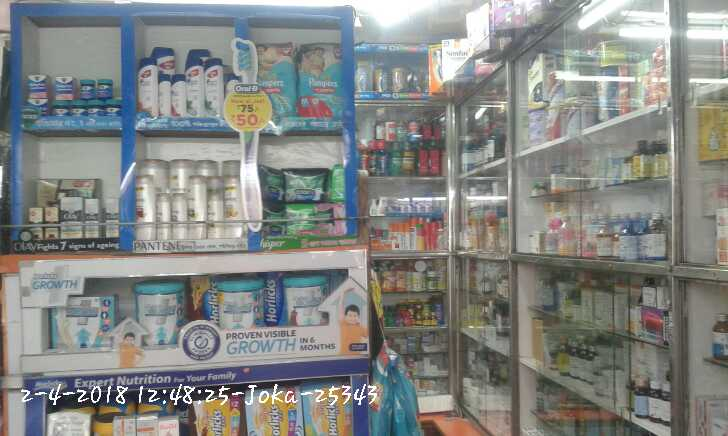vicks: (25, 72, 119, 117)
